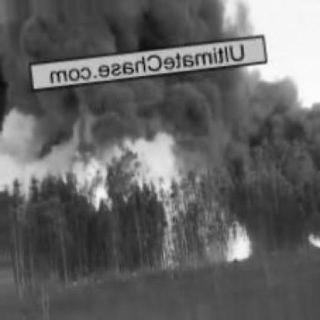Fire: (72, 153, 250, 273), (299, 227, 319, 254)
Smoke: (16, 2, 280, 142)
